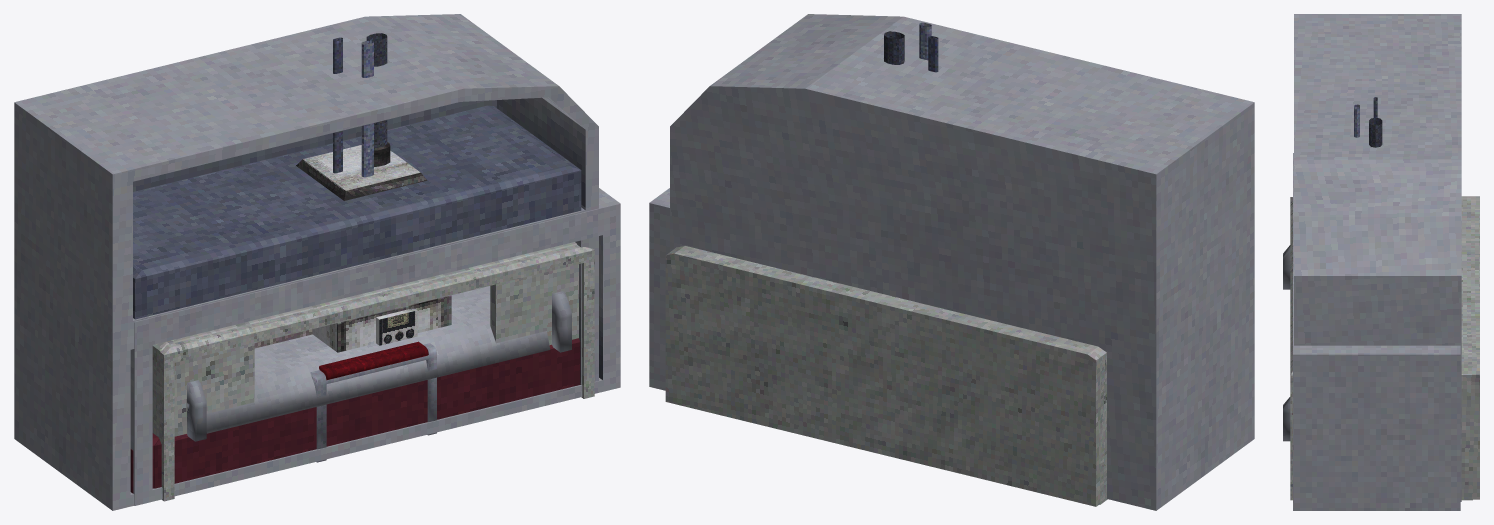
File: chair.gltf
The picture shows the model from 3 angles, left to right: view 1: azimuth 30°, elevation 25°; view 2: azimuth 150°, elevation 25°; view 3: azimuth 270°, elevation 25°; orthographic projection. The views are drawn at different scales.
Parts seen in each view (by area): view 1: Cube, Cube.002, Plane, Plane.001, BezierCurve.002, Plane.002, Plane.003; view 2: Cube, Plane.002, Cube.002, BezierCurve.002, Plane.001; view 3: Cube, Cube.002, Plane.002, Plane.001, BezierCurve.002, Plane.
Boxes of the visible parts, left/top/right/bottom form: Cube: left=14, top=14, right=598, bottom=510; Cube.002: left=130, top=188, right=620, bottom=505; Plane: left=187, top=286, right=571, bottom=441; Plane.001: left=152, top=245, right=594, bottom=501; BezierCurve.002: left=254, top=33, right=451, bottom=352; Plane.002: left=152, top=242, right=578, bottom=436; Plane.003: left=310, top=341, right=436, bottom=462; Cube: left=670, top=14, right=1254, bottom=510; Plane.002: left=665, top=246, right=1106, bottom=506; Cube.002: left=649, top=188, right=669, bottom=390; BezierCurve.002: left=884, top=22, right=938, bottom=72; Plane.001: left=1099, top=354, right=1107, bottom=504; Cube: left=1294, top=14, right=1461, bottom=501; Cube.002: left=1293, top=153, right=1460, bottom=510; Plane.002: left=1461, top=196, right=1479, bottom=499; Plane.001: left=1290, top=197, right=1472, bottom=500; BezierCurve.002: left=1354, top=97, right=1382, bottom=147; Plane: left=1283, top=245, right=1290, bottom=441.
Size of the model in its own units: 5.02 by 3.6 by 1.98.
Materials: 5 (5 with a texture image).
